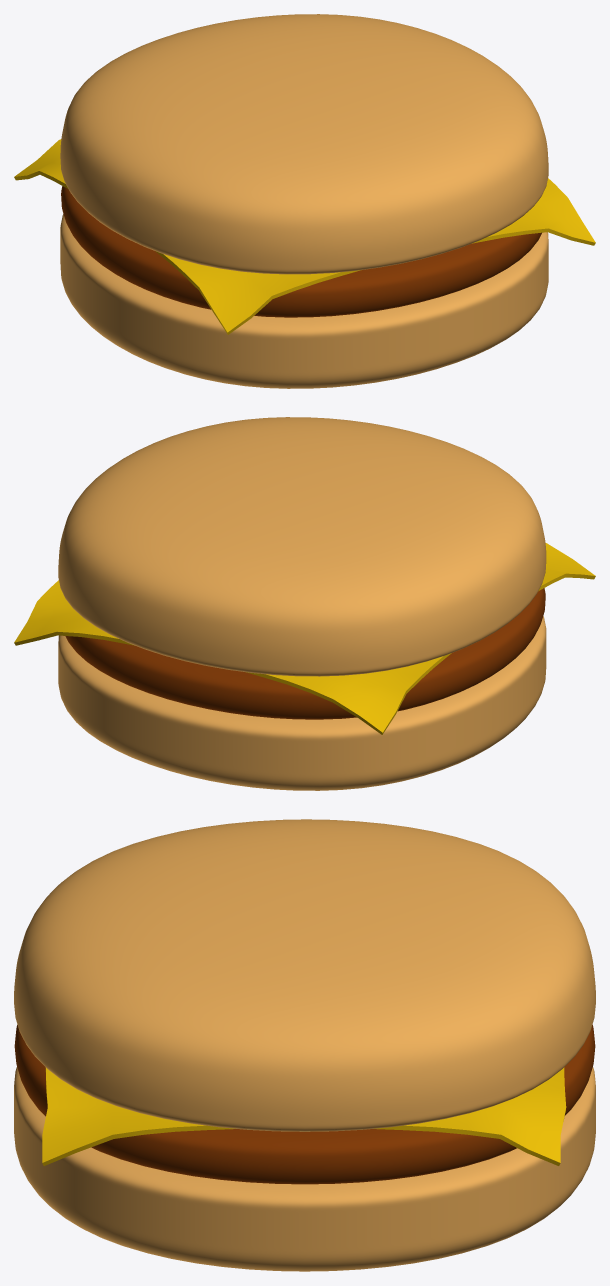
The model's file is hambergur.glb.
The picture shows the model from 3 angles, top to bottom: view 1: azimuth 30°, elevation 25°; view 2: azimuth 150°, elevation 25°; view 3: azimuth 270°, elevation 25°; orthographic projection. The views are drawn at different scales.
Parts seen in each view (by area): view 1: Cube.002, Cube, Cube.001, Plane; view 2: Cube.002, Cube, Cube.001, Plane; view 3: Cube.002, Cube, Cube.001, Plane.
Boxes of the visible parts, bbox=[...] form: Cube.002: bbox=[60, 14, 548, 274]; Cube: bbox=[60, 214, 548, 388]; Cube.001: bbox=[61, 186, 541, 317]; Plane: bbox=[14, 139, 595, 334]; Cube.002: bbox=[58, 417, 546, 676]; Cube: bbox=[58, 616, 546, 790]; Cube.001: bbox=[65, 588, 545, 719]; Plane: bbox=[14, 543, 595, 734]; Cube.002: bbox=[14, 819, 595, 1131]; Cube: bbox=[14, 1067, 595, 1271]; Cube.001: bbox=[14, 1025, 595, 1184]; Plane: bbox=[42, 1067, 566, 1165].
Size of the model in its own units: 9.37 by 4.89 by 9.37.
